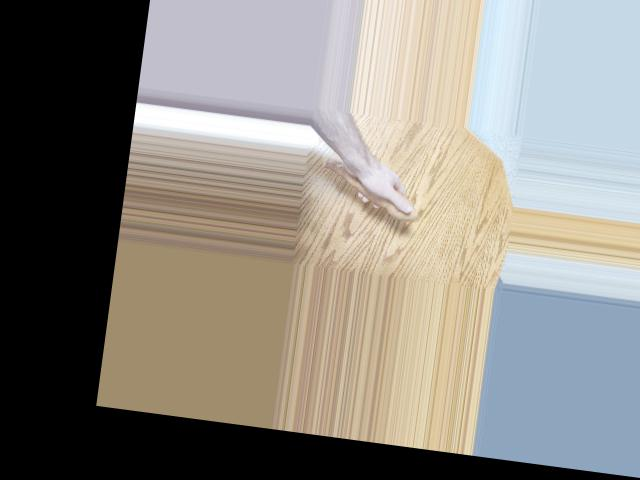sweet_potato: (311, 153, 425, 225)
